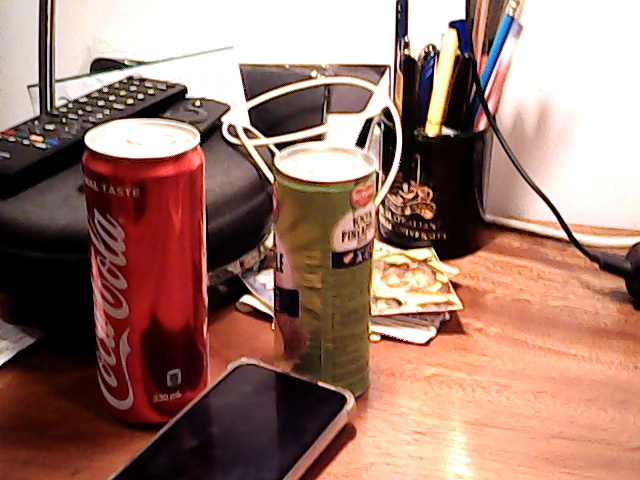Cola: (74, 112, 222, 435)
Pine Juice: (263, 128, 394, 411)
